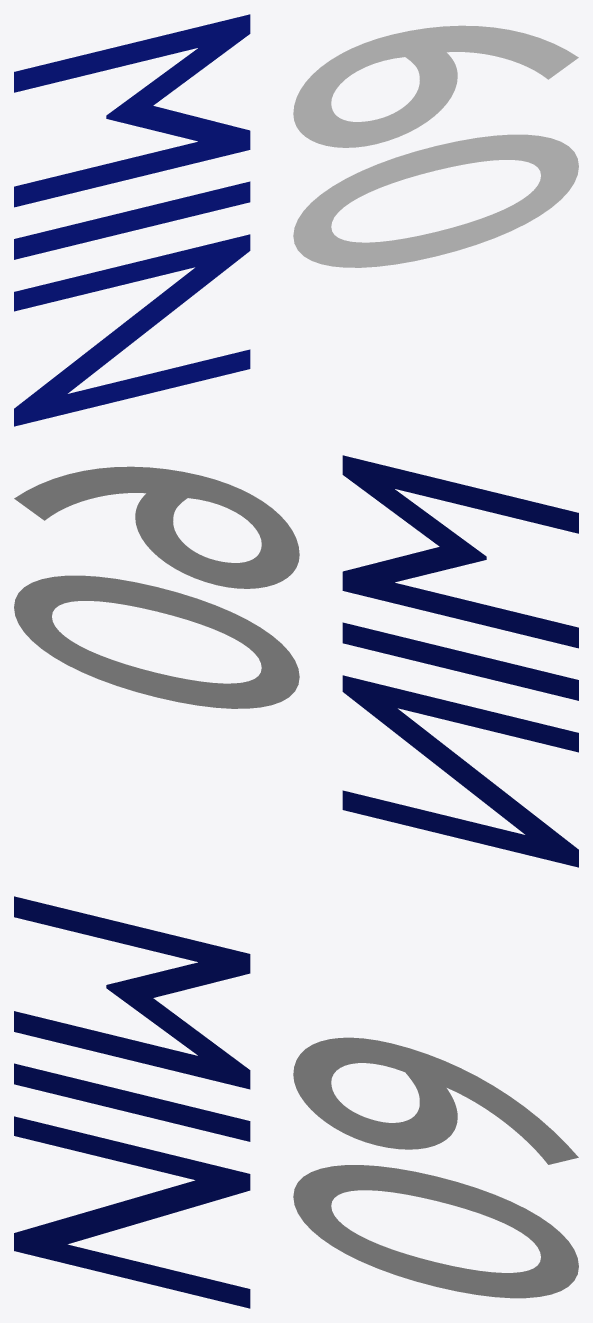
File: 地面标识-限速下限60.gltf
3 views of the same model, one above another, from view 1: azimuth 30°, elevation 25°; view 2: azimuth 150°, elevation 25°; view 3: azimuth 330°, elevation 25° (orthographic).
Parts seen in each view (by area): view 1: 文本.002, 文本; view 2: 文本.002, 文本; view 3: 文本.002, 文本.
Part boxes in pixels (x1=…): 文本.002: x1=14, y1=14, x2=250, y2=426; 文本: x1=293, y1=25, x2=578, y2=267; 文本.002: x1=342, y1=455, x2=578, y2=867; 文本: x1=14, y1=466, x2=299, y2=708; 文本.002: x1=14, y1=896, x2=250, y2=1308; 文本: x1=293, y1=1037, x2=578, y2=1298.
Size of the model in its own units: 3.4 by 2.04 by 8.08e-07.
